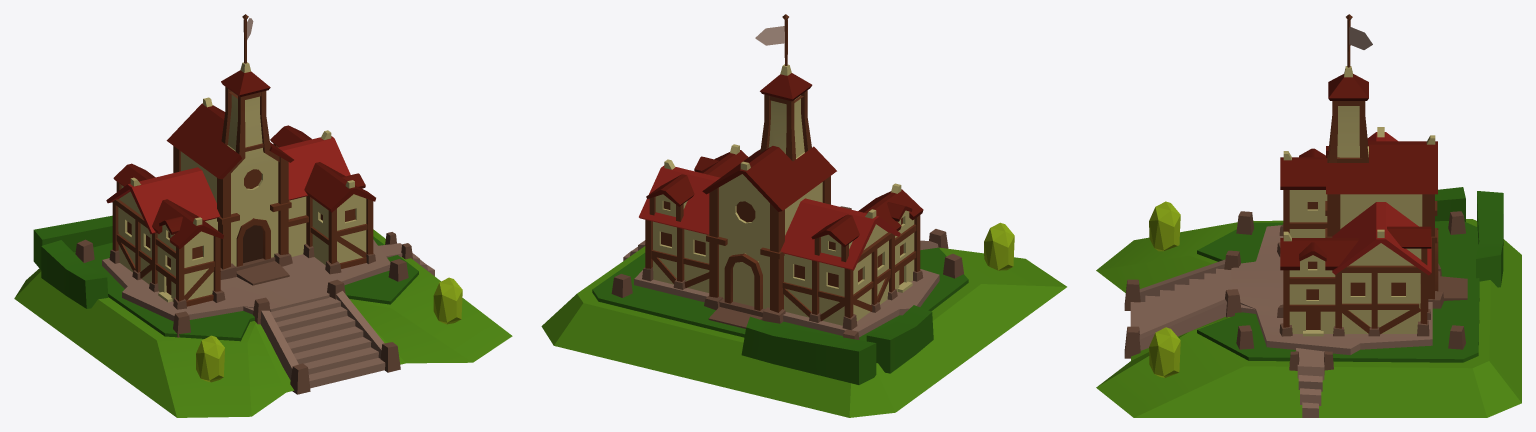
The model's file is townhall_5.fbx.
3 renders of one model, left to right at view 1: azimuth 30°, elevation 25°; view 2: azimuth 150°, elevation 25°; view 3: azimuth 270°, elevation 25°, orthographic. The views are drawn at different scales.
Visible parts, largest first — view 1: 05_townhall; view 2: 05_townhall; view 3: 05_townhall.
Boxes of the visible parts, x1,y1,x2,y2 form: 05_townhall: [14, 14, 512, 417]; 05_townhall: [541, 14, 1066, 417]; 05_townhall: [1096, 14, 1521, 417].
Bounding box in the file's own units: 215 × 218 × 179.
